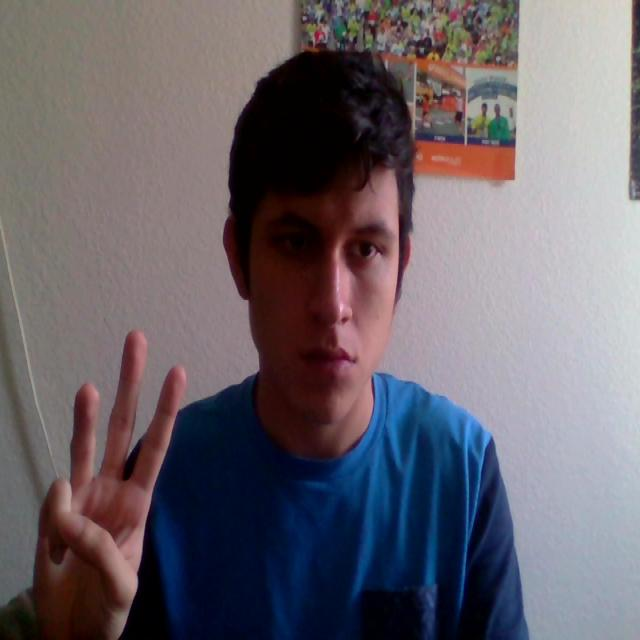W: (26, 276, 207, 640)
